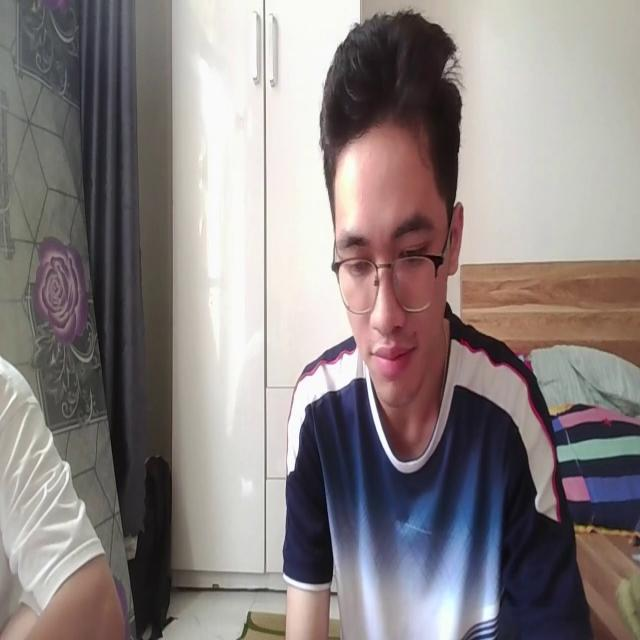student: (278, 6, 589, 640)
